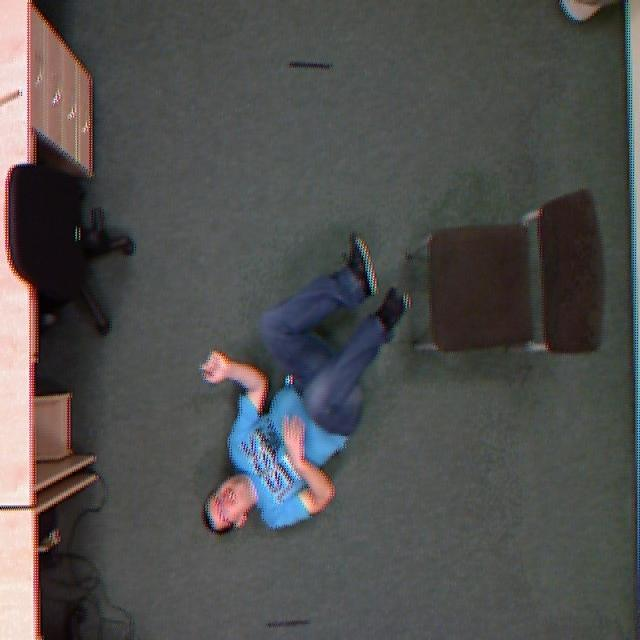fall: (186, 234, 418, 550)
